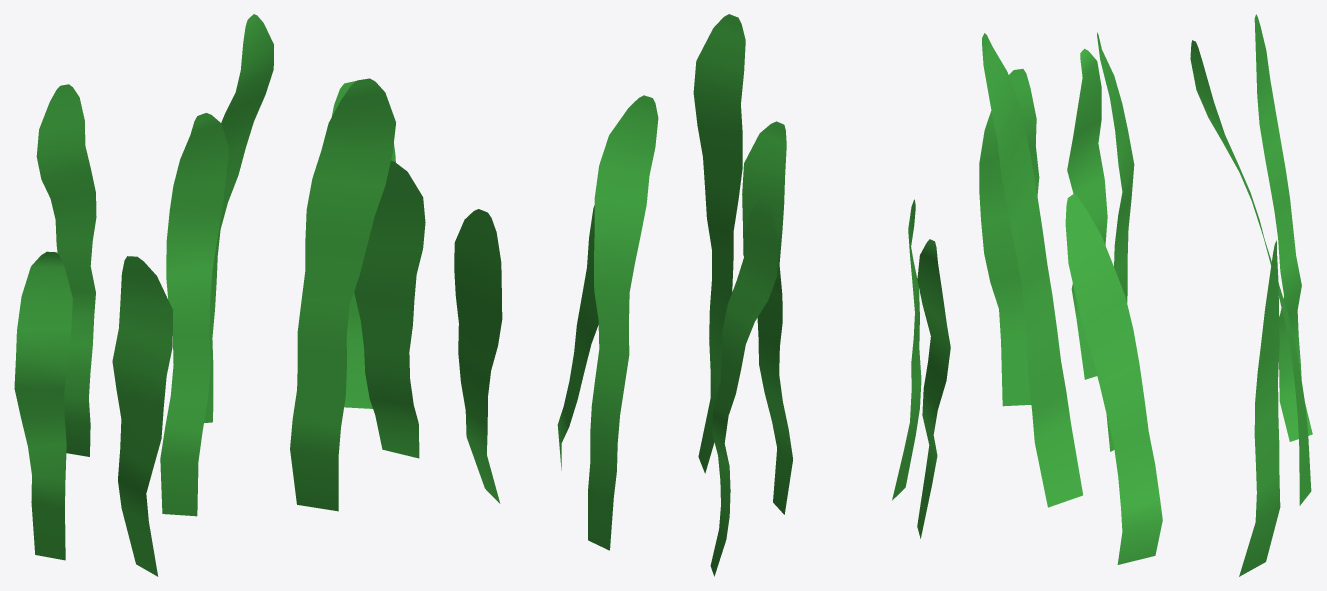
File: coral_seagrass_C_round_ultralight.fbx
3 renders of one model, left to right at view 1: azimuth 30°, elevation 25°; view 2: azimuth 150°, elevation 25°; view 3: azimuth 270°, elevation 25°, orthographic. The views are drawn at different scales.
Visible parts, largest first — view 1: coral_seagrass_C_round_ultralight; view 2: coral_seagrass_C_round_ultralight; view 3: coral_seagrass_C_round_ultralight.
Boxes of the visible parts, x1=… form: coral_seagrass_C_round_ultralight: x1=14, y1=14, x2=425, y2=576; coral_seagrass_C_round_ultralight: x1=454, y1=14, x2=950, y2=576; coral_seagrass_C_round_ultralight: x1=979, y1=14, x2=1312, y2=576.
Bounding box in the file's own units: 67.62 × 64.3 × 41.47.
